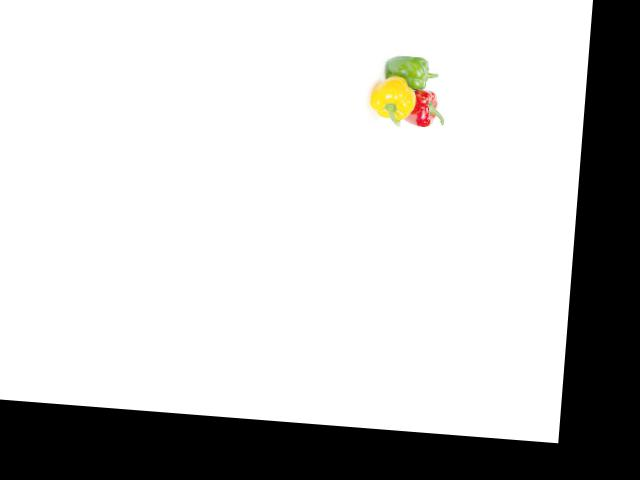bell_pepper: (397, 82, 451, 135)
